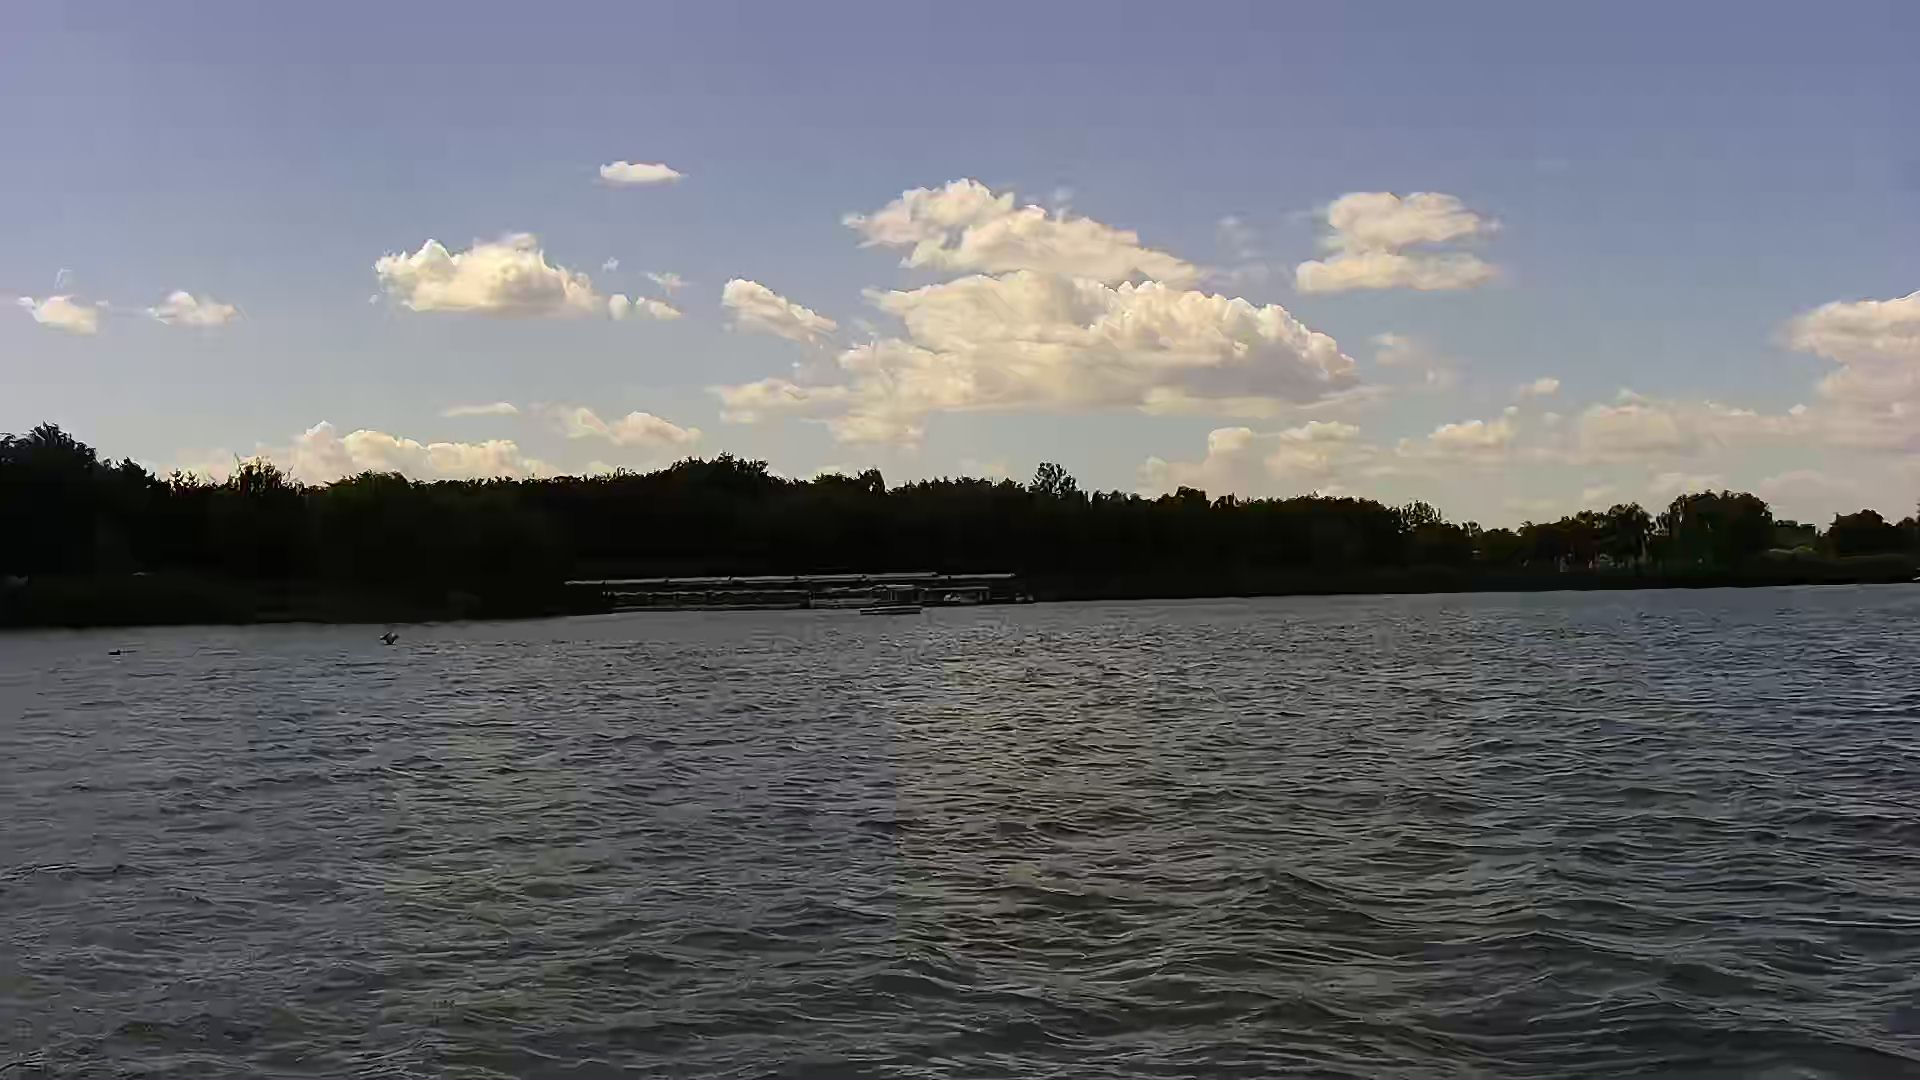boat: (851, 578, 928, 620)
harbor: (560, 566, 1026, 616)
